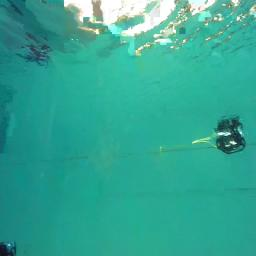Full: (0, 240, 16, 256)
Side: (216, 128, 246, 154)
